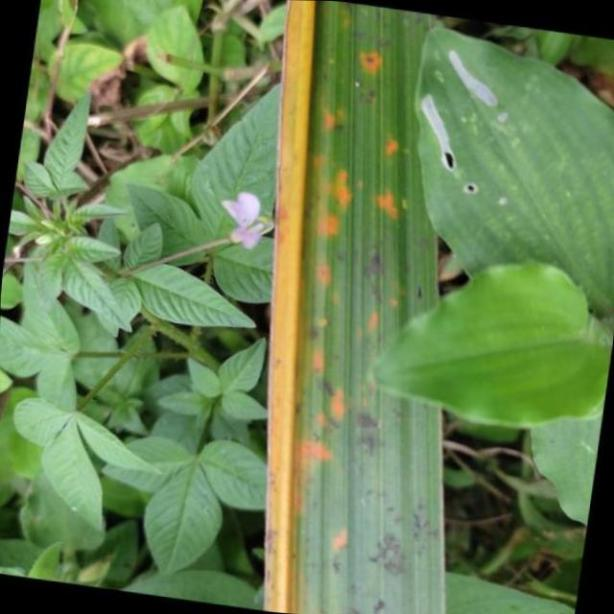Megnesium: (264, 0, 444, 614)
